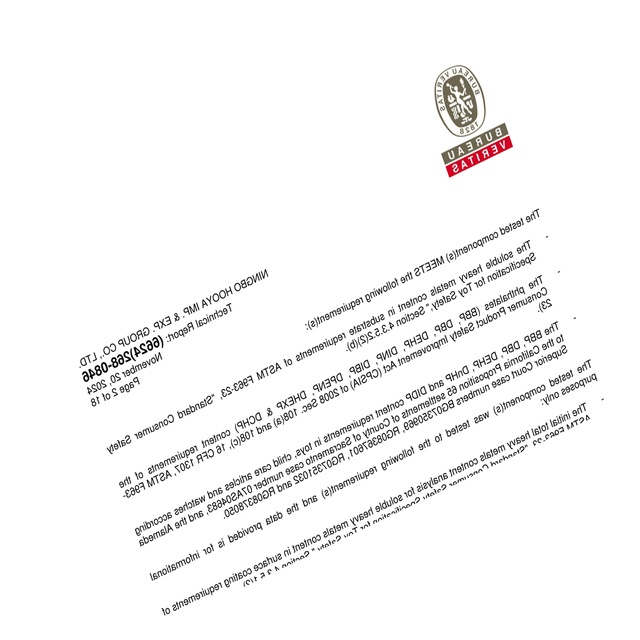bureau_veritas: (429, 60, 515, 179)
